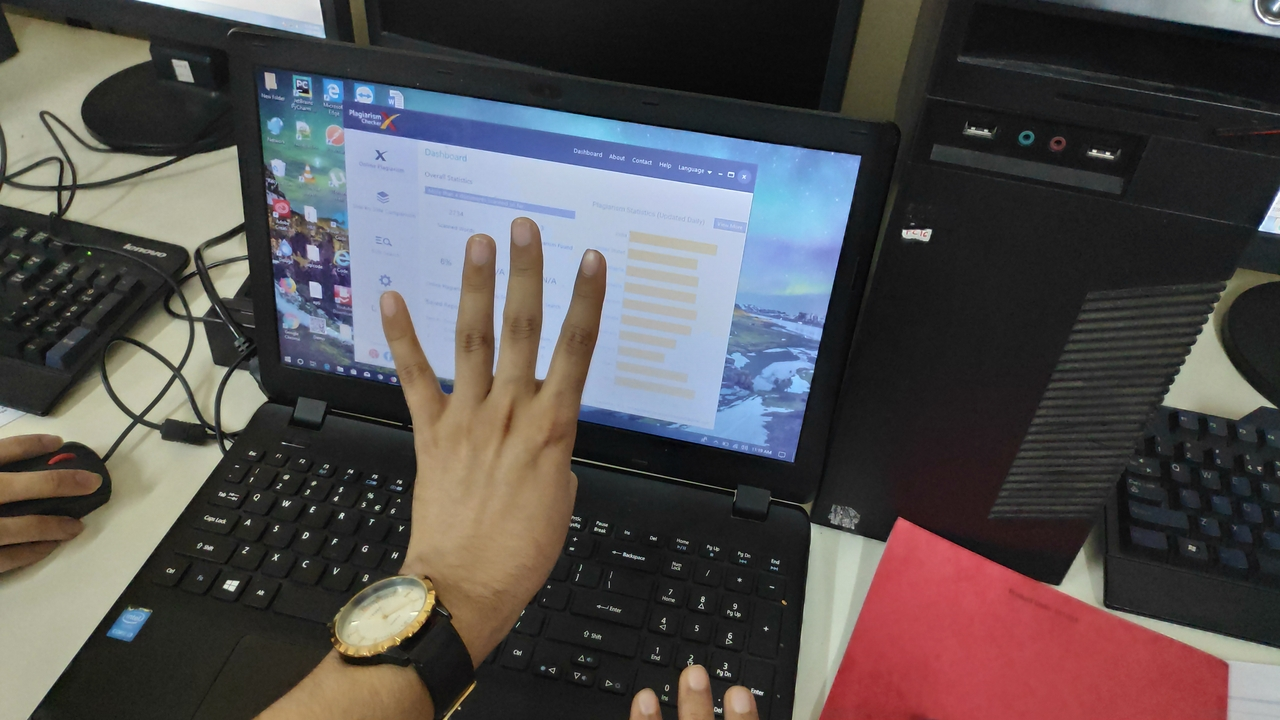fingertip: (494, 206, 548, 252), (564, 236, 612, 284), (452, 224, 496, 270), (370, 280, 414, 318)
